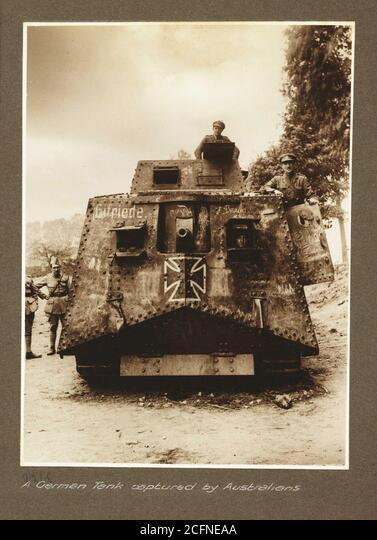person: (34, 260, 70, 356), (263, 154, 315, 204), (194, 121, 241, 161), (26, 277, 48, 361)
